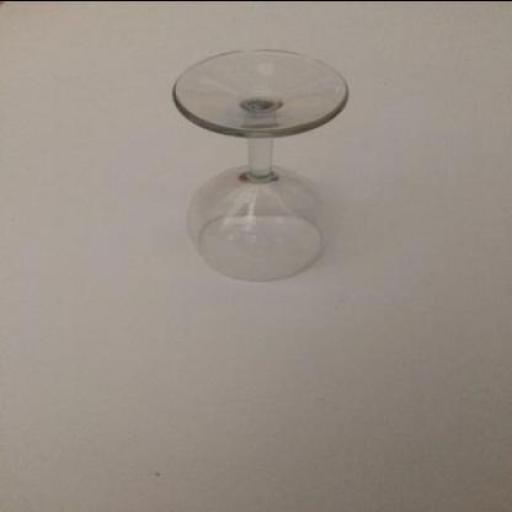glass: (172, 48, 348, 279)
